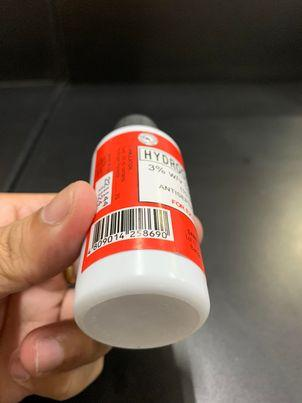-Bottle-: (75, 114, 212, 350)
